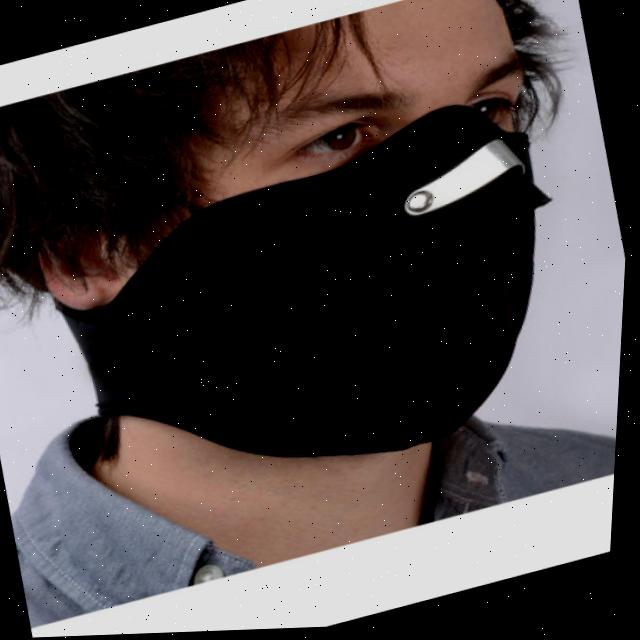Mask: (20, 73, 596, 534)
